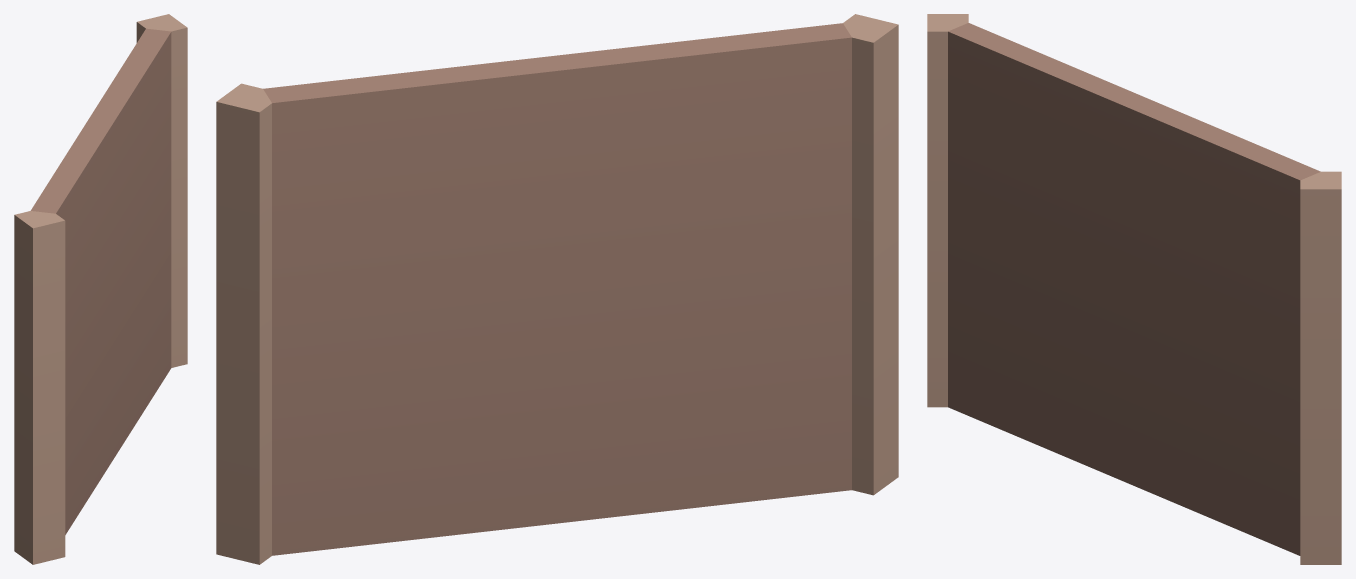
File: wall-wood-diagonal.glb
3 views of the same model, side by side, from view 1: azimuth 30°, elevation 25°; view 2: azimuth 150°, elevation 25°; view 3: azimuth 270°, elevation 25° (orthographic). The views are drawn at different scales.
Visible parts, largest first — view 1: wall-wood-diagonal; view 2: wall-wood-diagonal; view 3: wall-wood-diagonal.
Boxes of the visible parts, x1,y1,x2,y2 form: wall-wood-diagonal: (14,14,187,564); wall-wood-diagonal: (216,14,898,564); wall-wood-diagonal: (927,14,1341,564).
Size of the model in its own units: 1 by 1 by 1.
